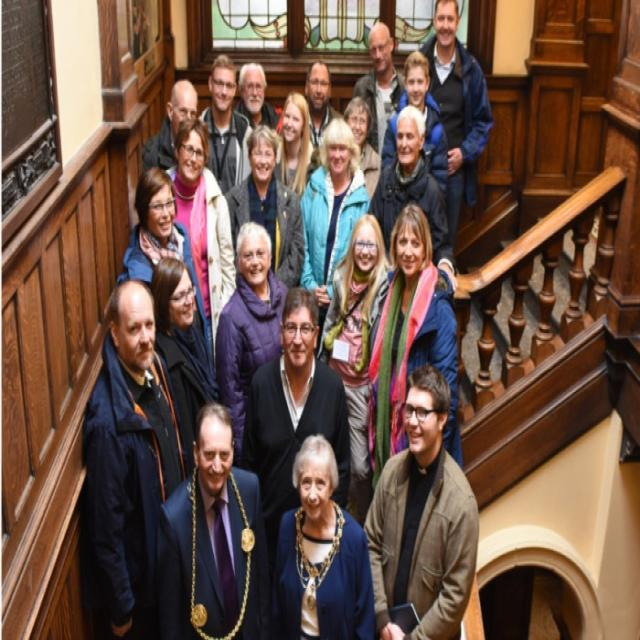body: (81, 277, 202, 640), (357, 358, 482, 638), (239, 284, 353, 563), (149, 394, 277, 638), (366, 201, 464, 488), (316, 212, 393, 529), (272, 434, 378, 638), (160, 114, 239, 377), (213, 216, 292, 468), (417, 0, 494, 249), (295, 114, 373, 358), (114, 163, 212, 351), (366, 102, 460, 294), (220, 122, 306, 291), (149, 255, 222, 441), (379, 48, 450, 200), (138, 75, 221, 184), (196, 52, 256, 195), (352, 21, 406, 159), (271, 89, 322, 199), (298, 59, 347, 170), (341, 93, 383, 207), (234, 60, 281, 130)
